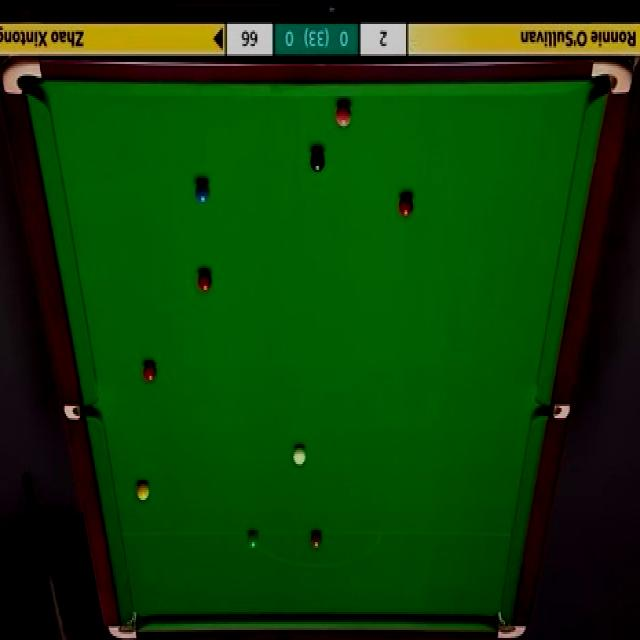pocket: (0, 56, 43, 98), (591, 60, 633, 95), (490, 604, 524, 638), (109, 608, 140, 640), (63, 403, 101, 422), (535, 405, 573, 420)
